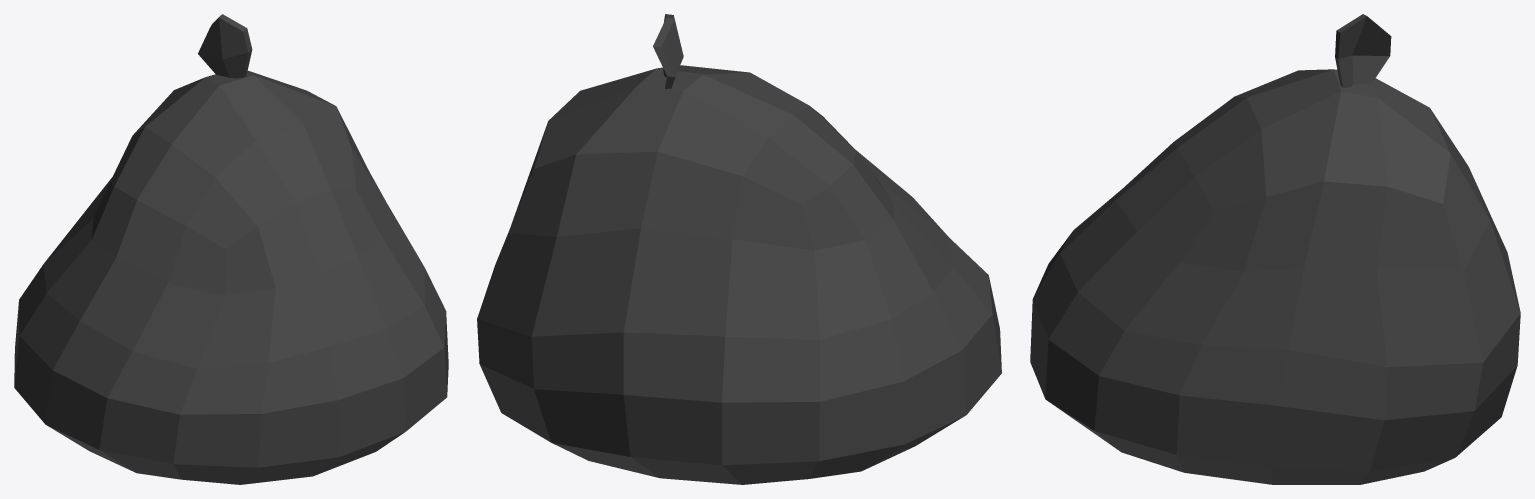
File: bag2.fbx
3 views of the same model, side by side, from view 1: azimuth 30°, elevation 25°; view 2: azimuth 150°, elevation 25°; view 3: azimuth 270°, elevation 25° (orthographic). The views are drawn at different scales.
Visible parts, largest first — view 1: Cube.001; view 2: Cube.001; view 3: Cube.001.
Boxes of the visible parts, x1=… form: Cube.001: x1=14, y1=14, x2=448, y2=484; Cube.001: x1=477, y1=14, x2=1001, y2=484; Cube.001: x1=1030, y1=14, x2=1520, y2=484.
Bounding box in the file's own units: 454 × 447 × 460.
